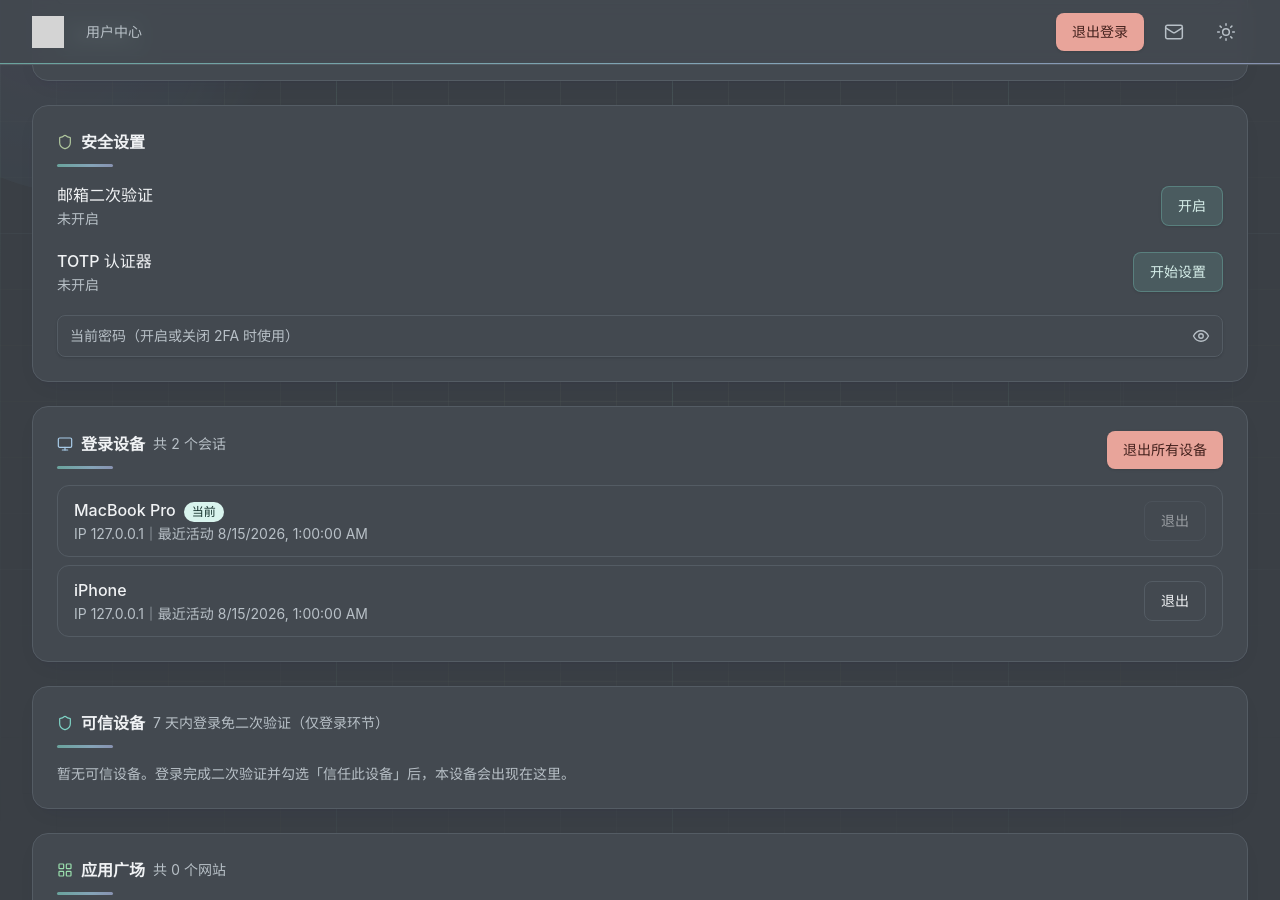
Test: DashboardPage › 退出所有设备保留当前会话并刷新列表
The image size is (1280, 900).
(page scrolled)
Check: the text "iPhone" is shown, box x1=74 y1=580 x2=127 y2=600
Click the button "退出所有设备" at (1165, 450), box x1=1107 y1=431 x2=1223 y2=469
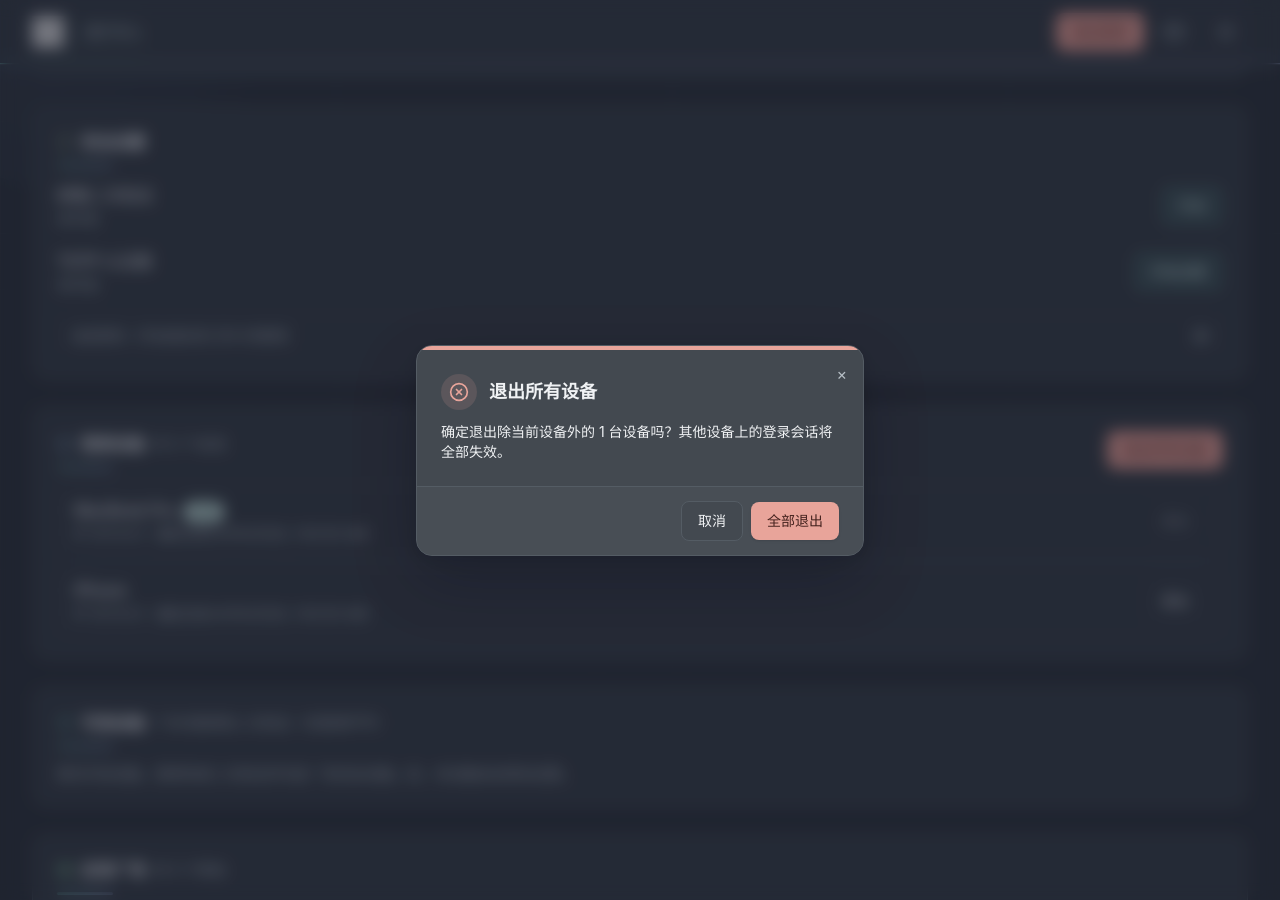
Check: the text "确定退出除当前设备外的 1 台设备吗？其他设备上的登录会话将全部失效。" is shown, box x1=441 y1=422 x2=833 y2=460
Click the button "全部退出" at (795, 520), box x1=751 y1=502 x2=839 y2=540
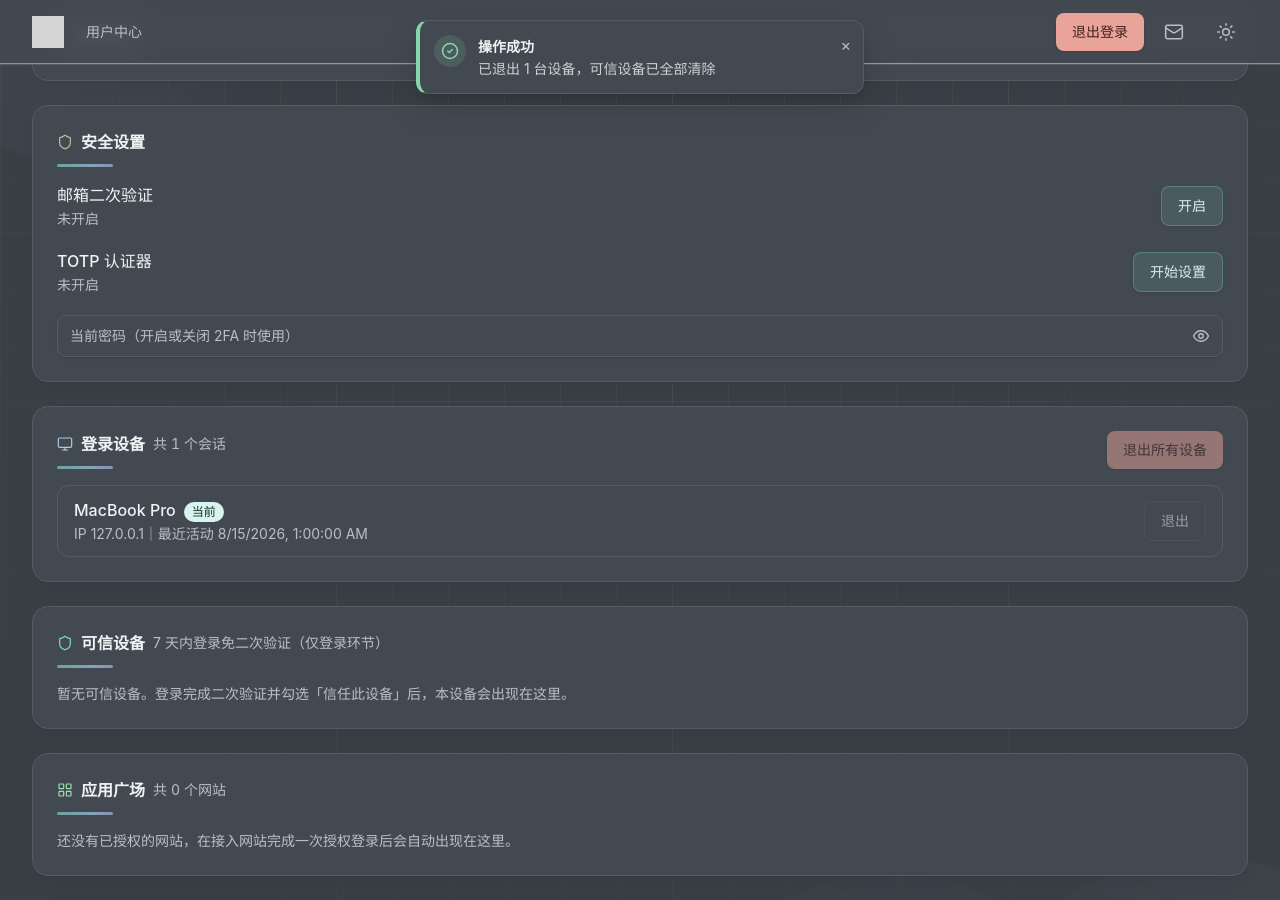
Check: the text "已退出 1 台设备，可信设备已全部清除" is shown, box x1=478 y1=60 x2=716 y2=77
Check: the text "iPhone" is gone
